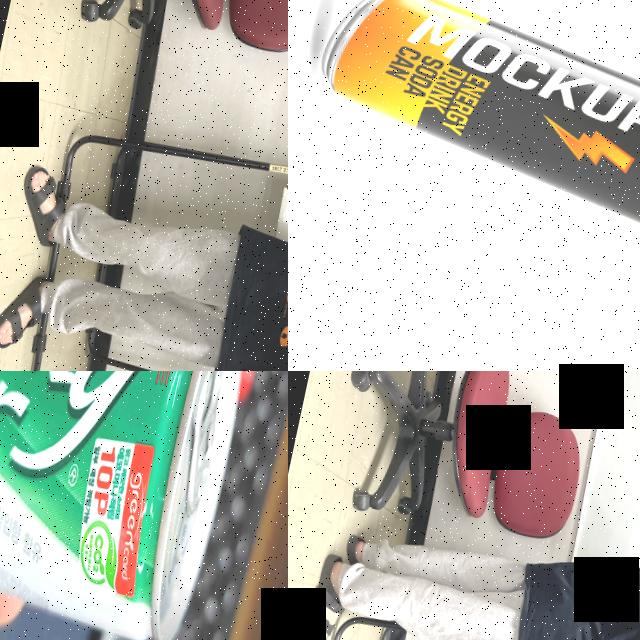can: (297, 0, 640, 276), (0, 371, 270, 640)
